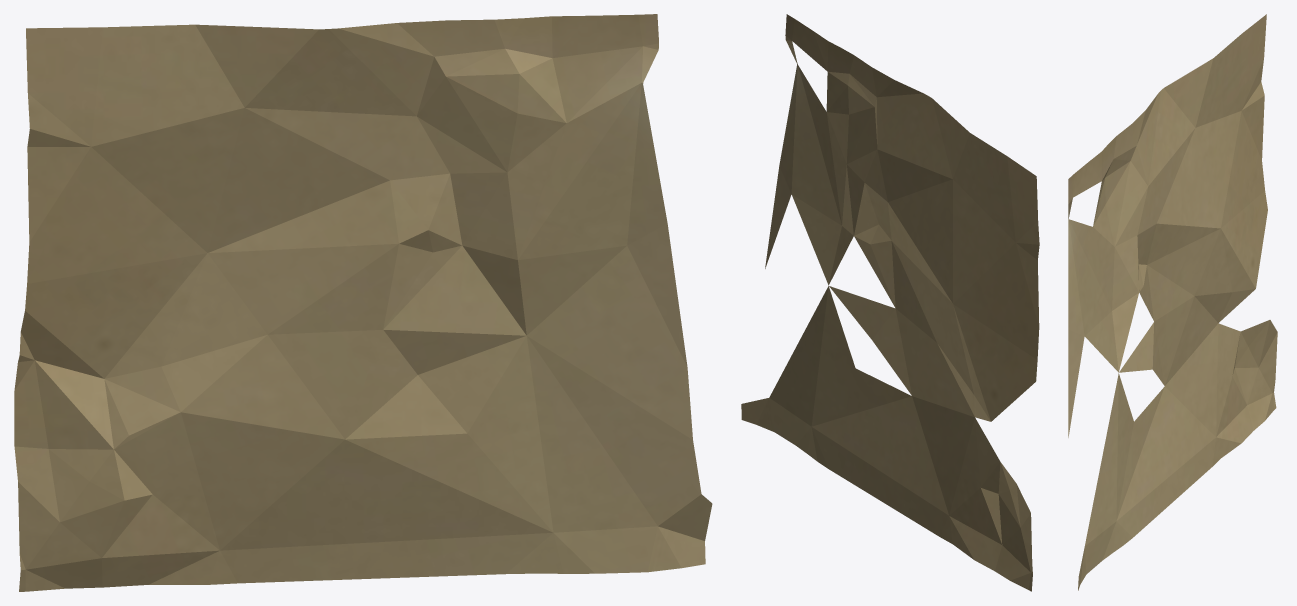
3 renders of one model, left to right at view 1: azimuth 30°, elevation 25°; view 2: azimuth 150°, elevation 25°; view 3: azimuth 270°, elevation 25°, orthographic. The views are drawn at different scales.
Bounding box in the file's own units: 0.8373 × 0.8374 × 0.4127.
Materials: 3 (3 with a texture image).
